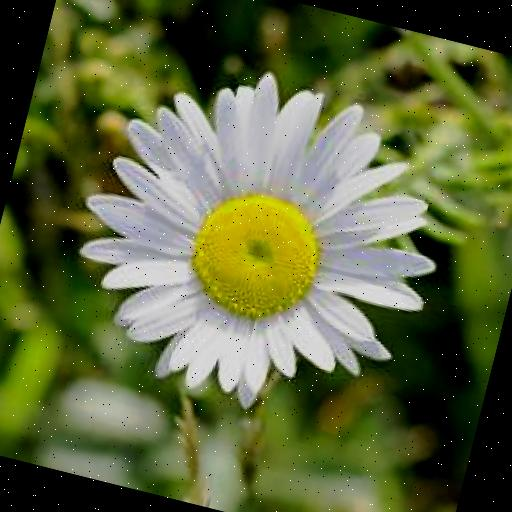daisy: (82, 61, 440, 420)
